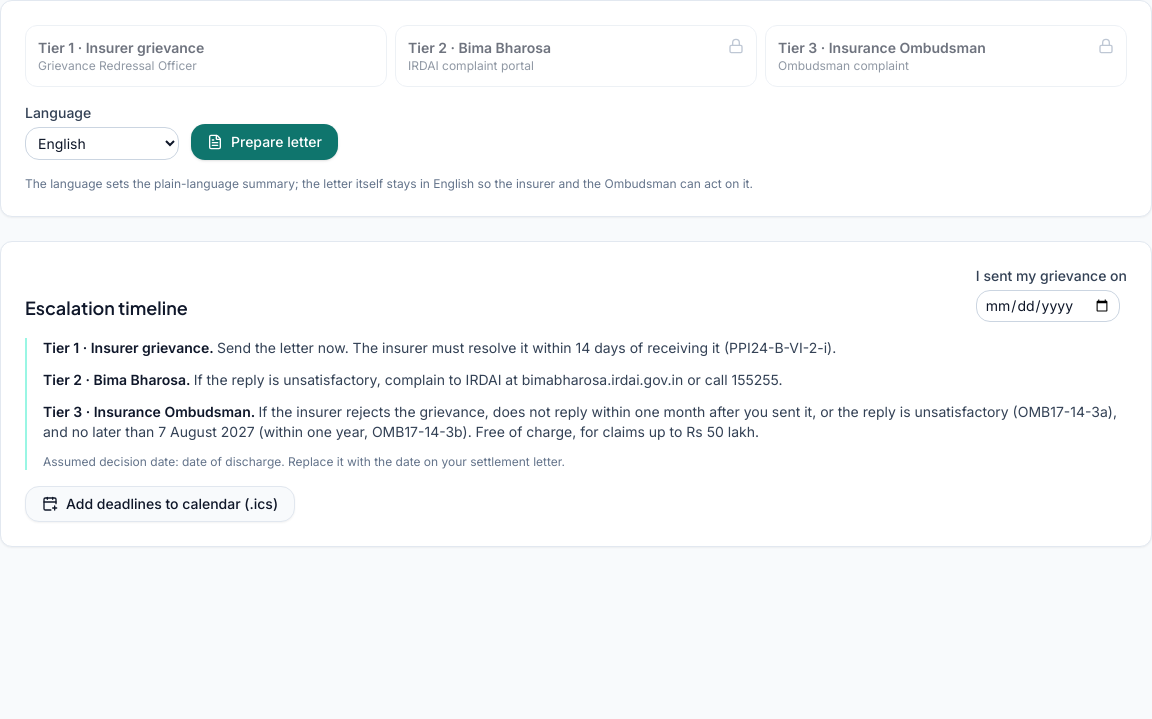
Test case: ActionCentre: drafting and approval › acceptance 3: tier 2 and 3 are disabled until the tier 1 draft is approved
Click the button "Prepare letter" at (264, 142), box 191,124 -> 338,160
(page scrolled)
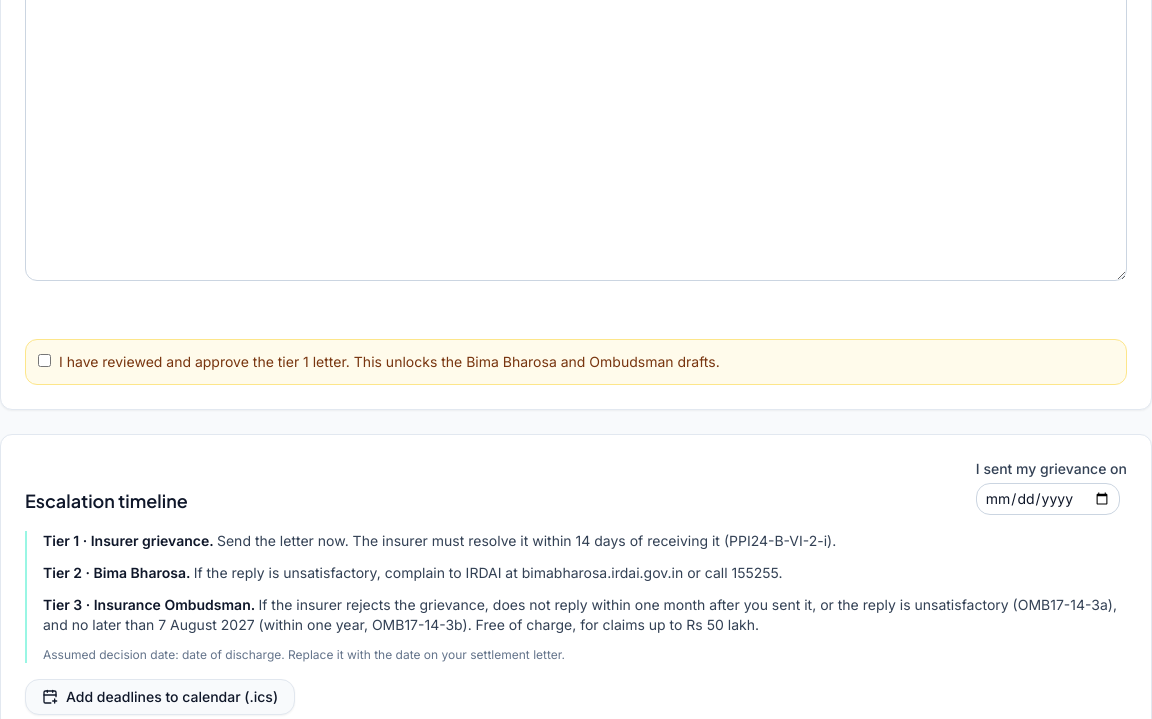
Click the checkbox labelled "I have reviewed and approve the tier 1 letter" at (44, 360), box 38,354 -> 51,366
(page scrolled)
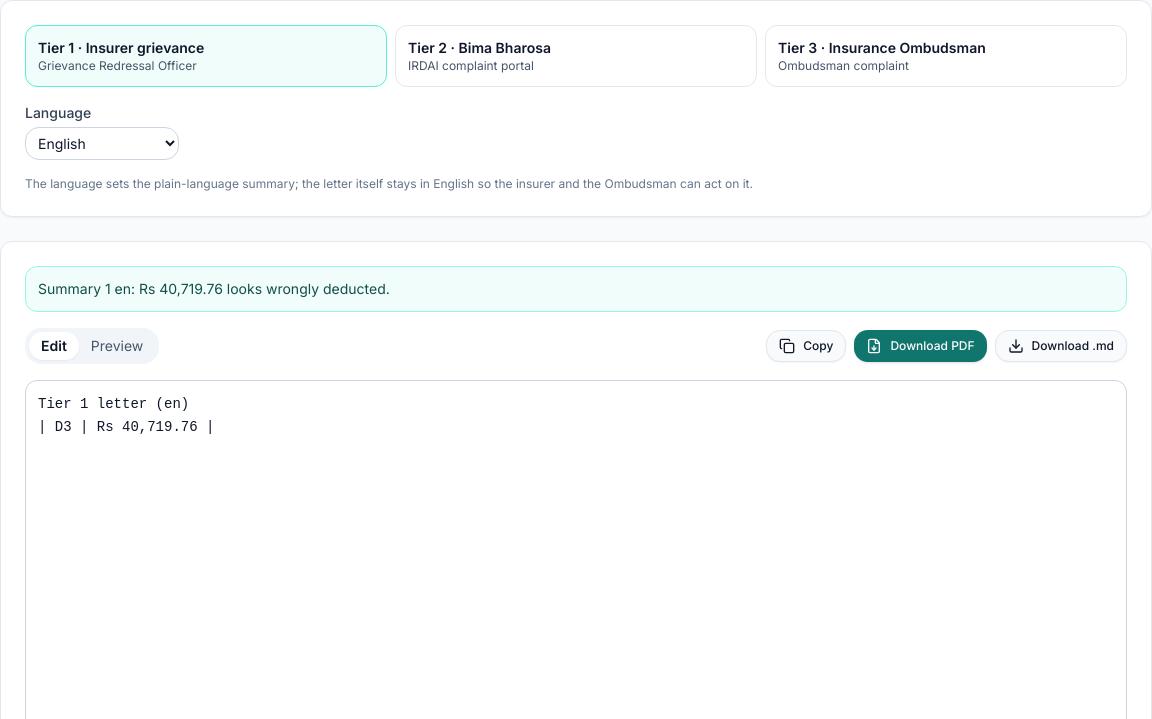
Click the button "Tier 3 · Insurance Ombudsman Ombudsman complaint" at (946, 56), box 765,25 -> 1127,87
(page scrolled)
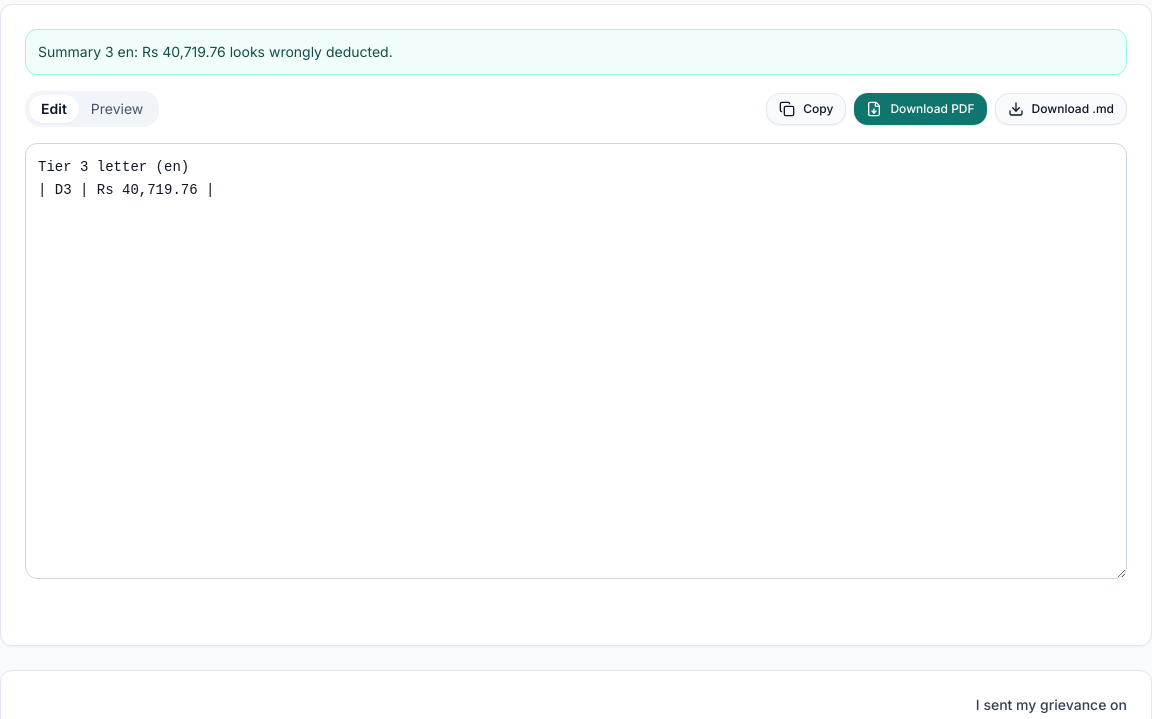
Expected: the text box showing "Tier 3 letter" is shown, 25,143 -> 1127,578
